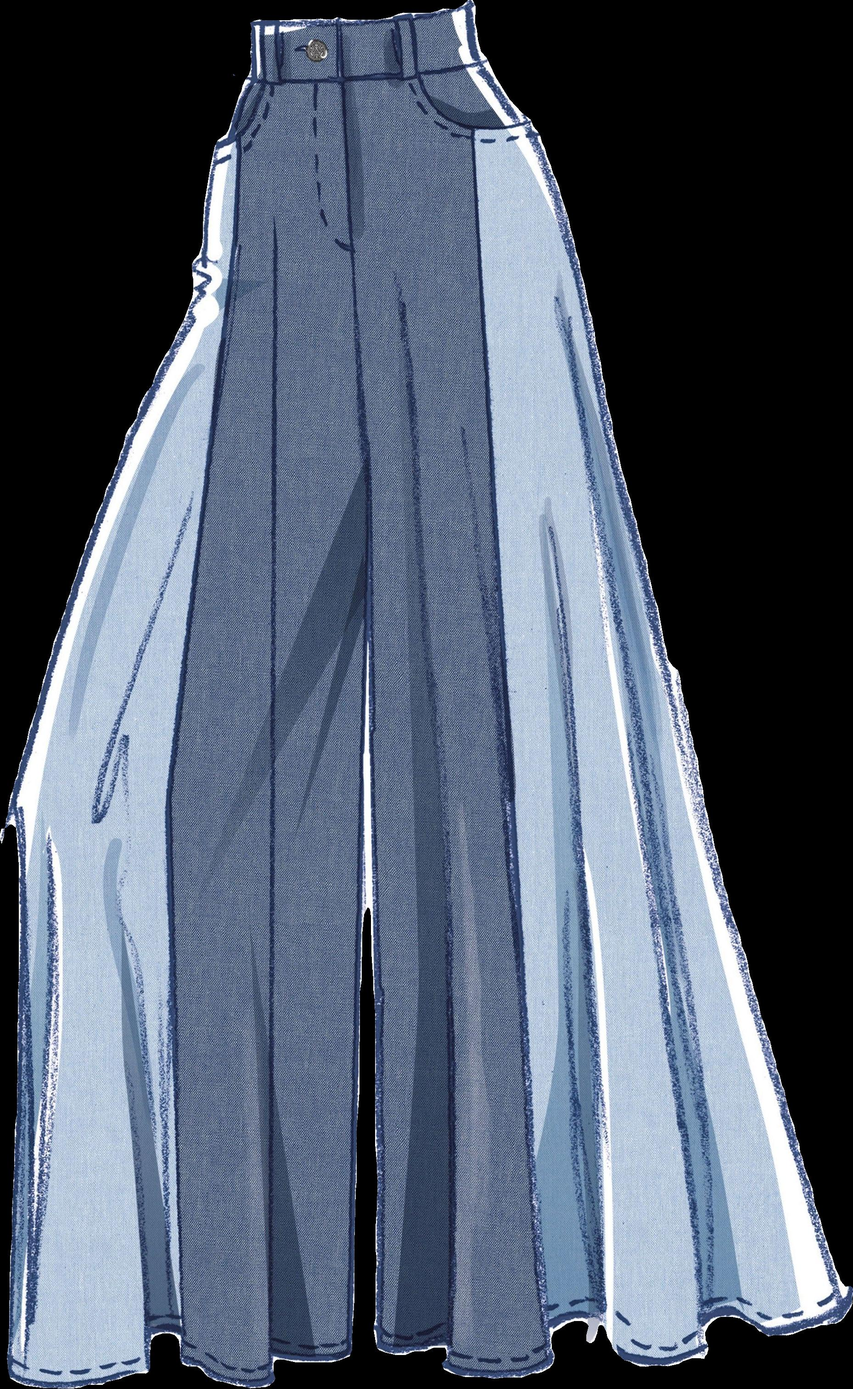Hemline: (374, 1287, 853, 1388), (1, 1321, 360, 1389)
Pantleg: (335, 0, 853, 1379), (5, 19, 365, 1386)
Waistline: (244, 47, 487, 90), (252, 0, 478, 39)
